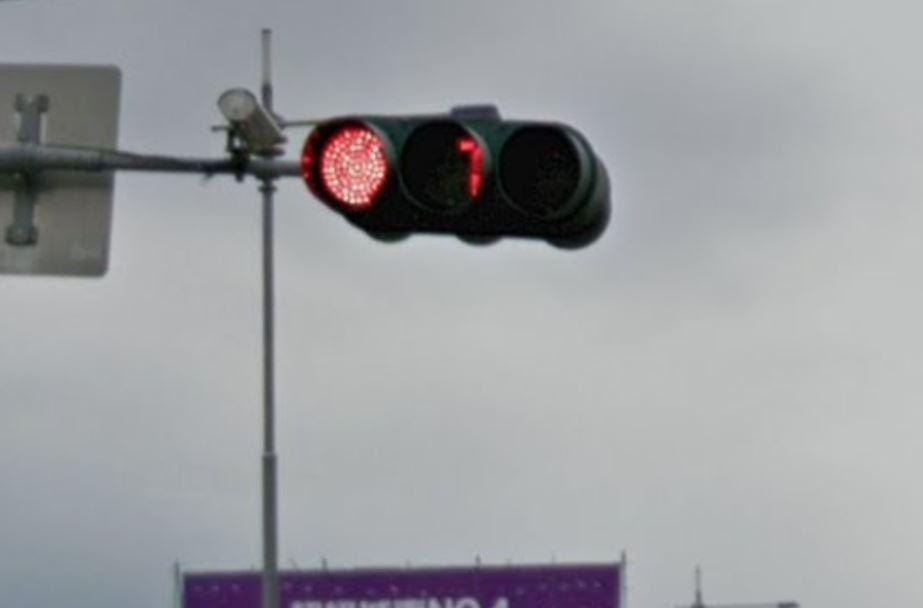red_traffic_light: (294, 112, 613, 245)
